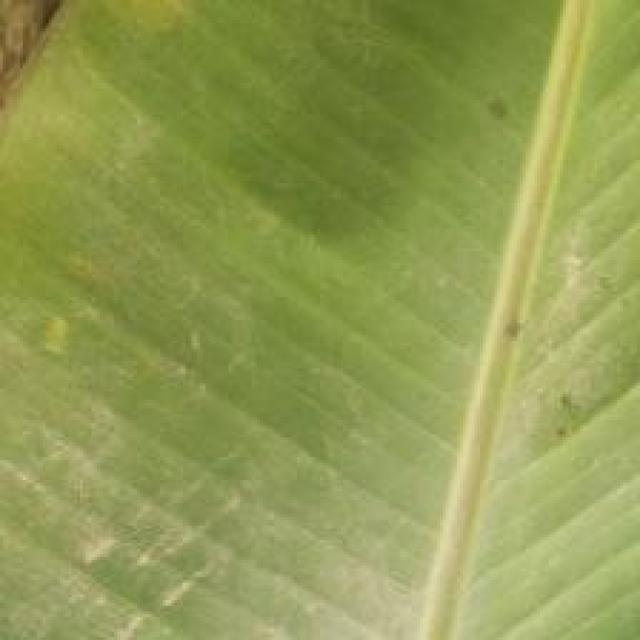Black_leaf_spot: (21, 56, 640, 640)
